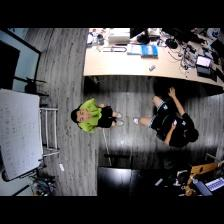normal: (129, 89, 198, 146), (71, 96, 123, 134)
